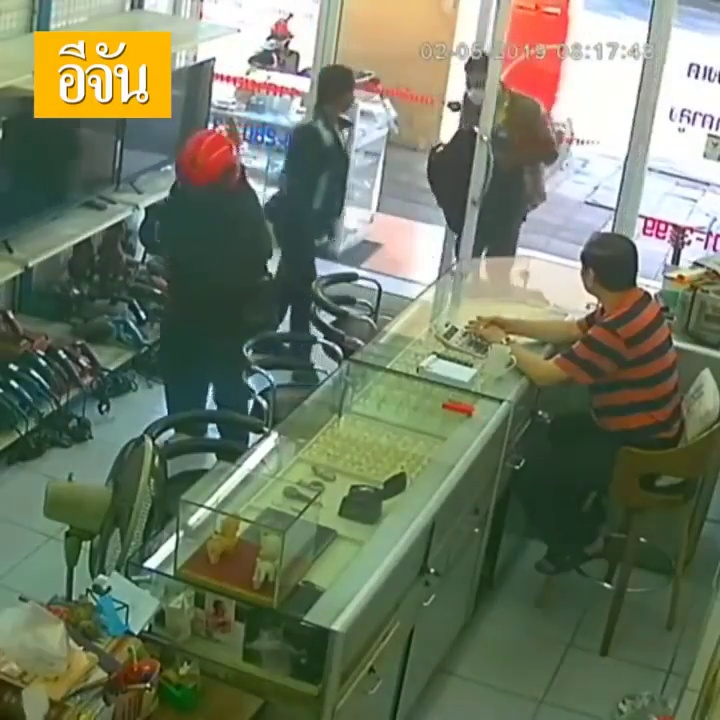helmet: (171, 126, 245, 209)
